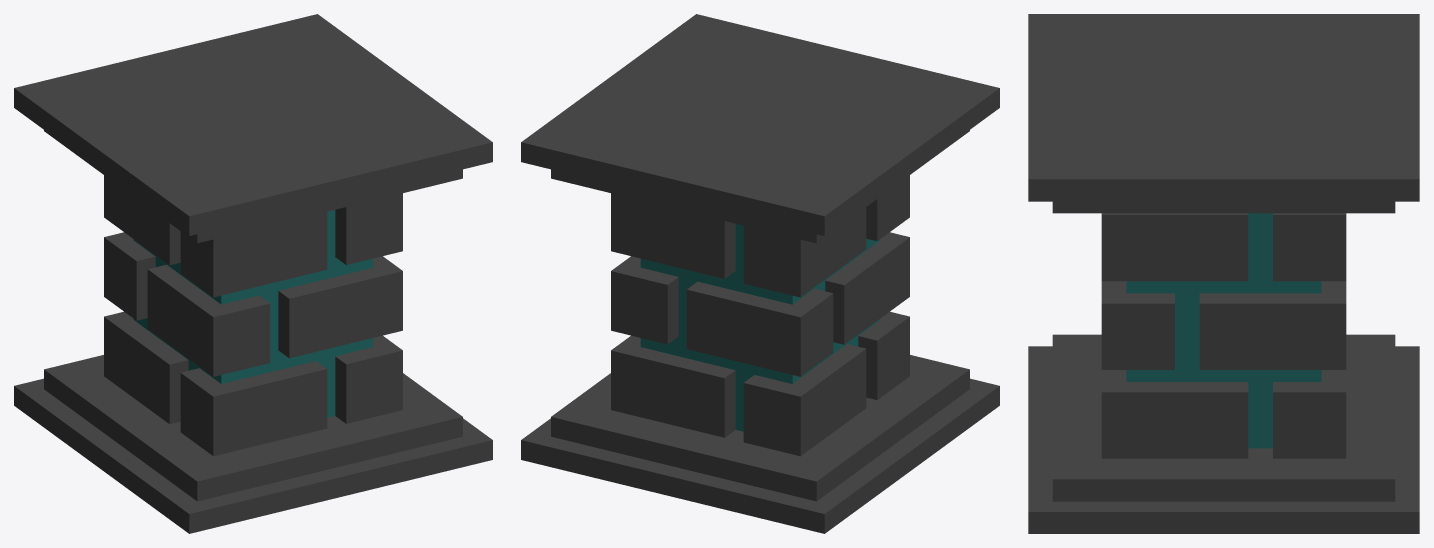
File: fence_vertex.gltf
The picture shows the model from 3 angles, left to right: view 1: azimuth 30°, elevation 25°; view 2: azimuth 150°, elevation 25°; view 3: azimuth 270°, elevation 25°; orthographic projection. The views are drawn at different scales.
Parts seen in each view (by area): view 1: Content (66)-Mesh; view 2: Content (66)-Mesh; view 3: Content (66)-Mesh.
Part boxes in pixels (left/top/right/bottom): Content (66)-Mesh: left=14, top=14, right=492, bottom=533; Content (66)-Mesh: left=521, top=14, right=999, bottom=533; Content (66)-Mesh: left=1028, top=14, right=1419, bottom=533.
Bounding box in the file's own units: 16 × 16 × 16.
1 material, 1 textured.
